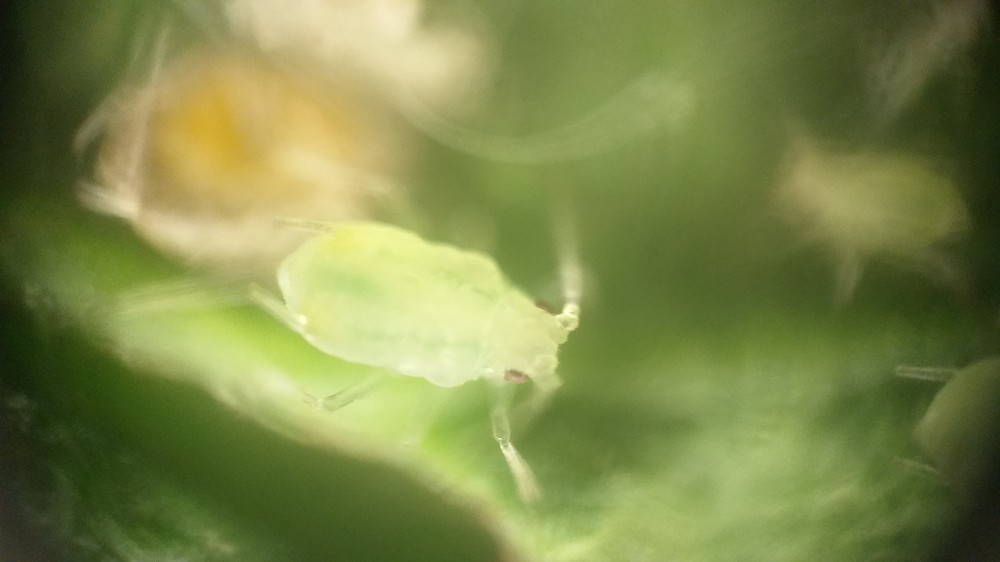Pulgon: (238, 174, 632, 513)
